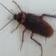cockroach: (13, 11, 54, 38)
